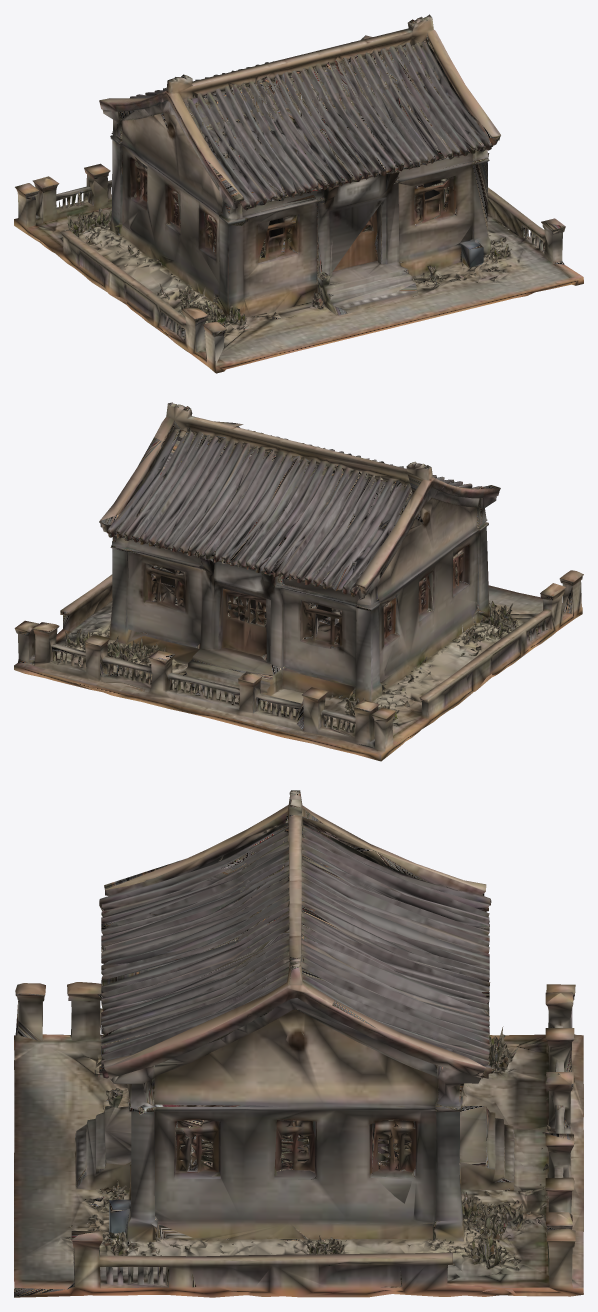
Rendered from bq_bookstore.glb.
The picture shows the model from 3 angles, top to bottom: view 1: azimuth 30°, elevation 25°; view 2: azimuth 150°, elevation 25°; view 3: azimuth 270°, elevation 25°; orthographic projection. The views are drawn at different scales.
Size of the model in its own units: 1.9 by 1.02 by 1.79.
1 material, 1 textured.
